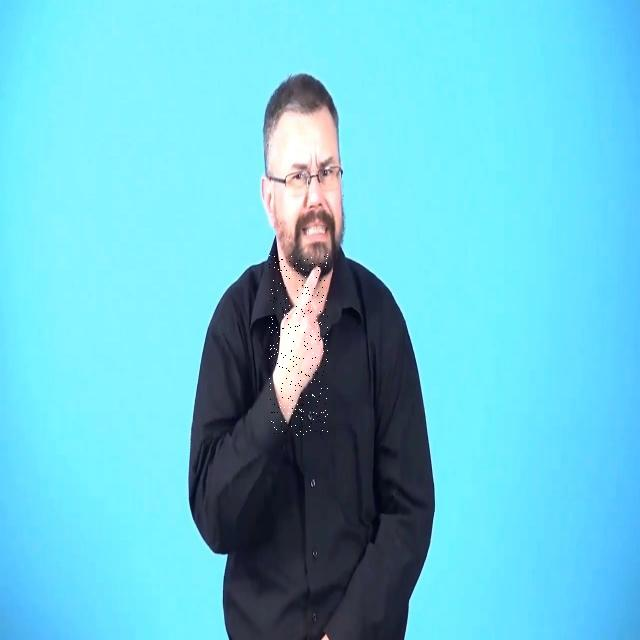repeat: (269, 254, 328, 436)
